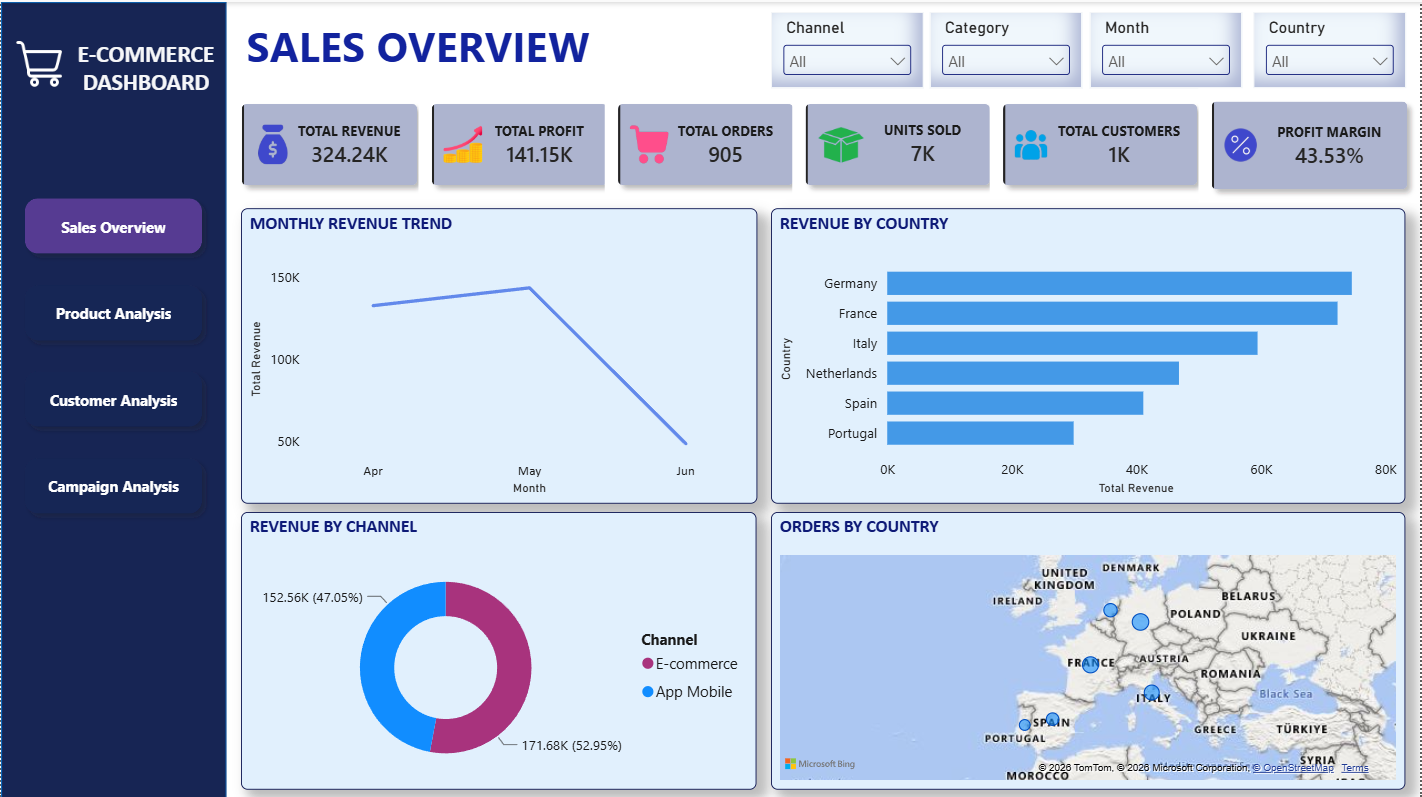

The dashboard page shown, as its layout file describes it:
{"tool":"powerbi","page":{"name":"Sales Overview","canvas":[1280,720],"ordinal":0},"visuals":[{"type":"shape","box":[0,0,203.5,719.8],"z":0,"group":"g1"},{"type":"slicer","fields":{"Values":["Store Sales.Channel"]},"box":[694.2,9.3,137.4,68.6],"z":0,"group":"g2"},{"type":"lineChart","title":"MONTHLY REVENUE TREND","fields":{"Category":["Store Sales Item.Month"],"Y":["KPIMeasures.Total Revenue"]},"box":[216.4,186,465.5,266],"z":0},{"type":"slicer","fields":{"Values":["Store Products.Category"]},"box":[837.5,9.3,137.4,68.6],"z":1000,"group":"g2"},{"type":"pageNavigator","box":[12.4,167.9,178.1,302.1],"z":1000,"group":"g1"},{"type":"donutChart","title":"REVENUE BY CHANNEL","fields":{"Category":["Store Sales Item.Channel"],"Y":["KPIMeasures.Total Revenue"]},"box":[216.3,459.3,465.1,250],"z":1000},{"type":"slicer","fields":{"Values":["Store Sales Item.Month"]},"box":[981.7,9.3,137.4,68.6],"z":2000,"group":"g2"},{"type":"textbox","title":"E-COMMERCE DASHBOARD","box":[57,33.7,146.5,54.7],"z":2000,"group":"g1"},{"type":"barChart","title":"REVENUE BY COUNTRY","fields":{"Y":["KPIMeasures.Total Revenue"],"Category":["Store Sales.Country"]},"box":[694.2,186,572.1,266.3],"z":2000},{"type":"slicer","fields":{"Values":["Store Sales.Country"]},"box":[1128.9,9.3,137.4,68.6],"z":3000,"group":"g2"},{"type":"image","box":[12.8,33.7,44.2,44.2],"z":3000,"group":"g1"},{"type":"map","title":"ORDERS BY COUNTRY","fields":{"Category":["Store Sales.Country"],"Size":["KPIMeasures.Total Orders"]},"box":[694.2,459.3,572.1,250],"z":3000},{"type":"textbox","box":[216.3,9.3,367.4,68.6],"z":4000},{"type":"group","id":"g1","title":"Group 1","box":[0,0,204,720.2],"z":6000},{"type":"cardVisual","fields":{"Data":["KPIMeasures.Total Revenue"]},"box":[204.7,79.8,182.1,97.8],"z":6000,"group":"g3"},{"type":"group","id":"g2","title":"Group 2","box":[694.2,9.3,572.1,68.6],"z":7000},{"type":"group","id":"g3","title":"Group 4","box":[204.7,77.9,1075.6,103.5],"z":8000},{"type":"cardVisual","fields":{"Data":["KPIMeasures.Total Profit"]},"box":[376.1,79.8,182.1,97.8],"z":10000,"group":"g3"},{"type":"cardVisual","fields":{"Data":["KPIMeasures.Total Orders"]},"box":[544,79.8,182.1,97.8],"z":11000,"group":"g3"},{"type":"cardVisual","fields":{"Data":["KPIMeasures.Units Sold"]},"box":[713,79.8,190.5,97.8],"z":12000,"group":"g3"},{"type":"cardVisual","fields":{"Data":["KPIMeasures.Total Customers"]},"box":[891.6,79.8,200,97.8],"z":13000,"group":"g3"},{"type":"cardVisual","fields":{"Data":["KPIMeasures.Profit Margin %"]},"box":[1079.7,77.9,200,103.5],"z":14000,"group":"g3"}]}

Visuals, with their boxes on the page's 1280x720 design canvas (x1, y1, x2, y2). These are canvas units, not pixel positions in the 1422x797 screenshot, which may show the page scaled, cropped or inside an application window:
shape: (x1=0, y1=0, x2=204, y2=720)
slicer - Store Sales.Channel: (x1=694, y1=9, x2=832, y2=78)
"MONTHLY REVENUE TREND" lineChart: (x1=216, y1=186, x2=682, y2=452)
slicer - Store Products.Category: (x1=838, y1=9, x2=975, y2=78)
pageNavigator: (x1=12, y1=168, x2=190, y2=470)
"REVENUE BY CHANNEL" donutChart: (x1=216, y1=459, x2=681, y2=709)
slicer - Store Sales Item.Month: (x1=982, y1=9, x2=1119, y2=78)
"E-COMMERCE DASHBOARD" textbox: (x1=57, y1=34, x2=204, y2=88)
"REVENUE BY COUNTRY" barChart: (x1=694, y1=186, x2=1266, y2=452)
slicer - Store Sales.Country: (x1=1129, y1=9, x2=1266, y2=78)
image: (x1=13, y1=34, x2=57, y2=78)
"ORDERS BY COUNTRY" map: (x1=694, y1=459, x2=1266, y2=709)
textbox: (x1=216, y1=9, x2=584, y2=78)
"Group 1" group: (x1=0, y1=0, x2=204, y2=720)
cardVisual - KPIMeasures.Total Revenue: (x1=205, y1=80, x2=387, y2=178)
"Group 2" group: (x1=694, y1=9, x2=1266, y2=78)
"Group 4" group: (x1=205, y1=78, x2=1280, y2=181)
cardVisual - KPIMeasures.Total Profit: (x1=376, y1=80, x2=558, y2=178)
cardVisual - KPIMeasures.Total Orders: (x1=544, y1=80, x2=726, y2=178)
cardVisual - KPIMeasures.Units Sold: (x1=713, y1=80, x2=904, y2=178)
cardVisual - KPIMeasures.Total Customers: (x1=892, y1=80, x2=1092, y2=178)
cardVisual - KPIMeasures.Profit Margin %: (x1=1080, y1=78, x2=1280, y2=181)
